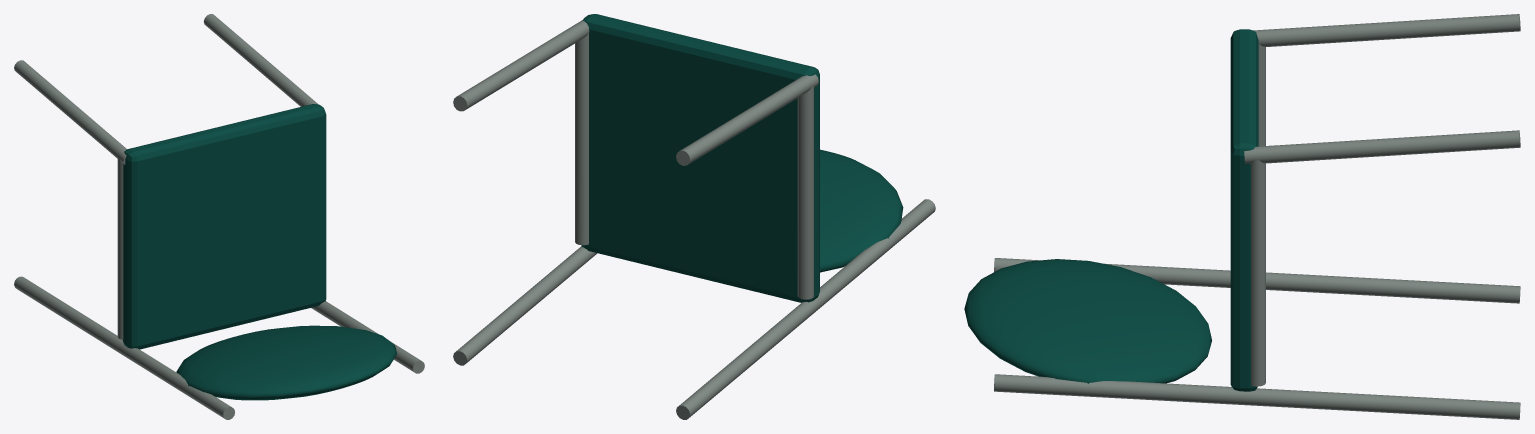
The model's file is Chair_013.obj.
The picture shows the model from 3 angles, left to right: view 1: azimuth 30°, elevation 25°; view 2: azimuth 150°, elevation 25°; view 3: azimuth 270°, elevation 25°; orthographic projection. The views are drawn at different scales.
Parts seen in each view (by area): view 1: Chair_013_Encosto_Mesh, Chair_013_Lateral_Mesh.001; view 2: Chair_013_Encosto_Mesh, Chair_013_Lateral_Mesh.001; view 3: Chair_013_Encosto_Mesh, Chair_013_Lateral_Mesh.001.
Boxes of the visible parts, x1,y1,x2,y2 form: Chair_013_Encosto_Mesh: (122,104,397,400); Chair_013_Lateral_Mesh.001: (14,14,424,419); Chair_013_Encosto_Mesh: (581,14,903,302); Chair_013_Lateral_Mesh.001: (453,20,935,419); Chair_013_Encosto_Mesh: (964,29,1258,391); Chair_013_Lateral_Mesh.001: (994,14,1520,419).
Size of the model in its own units: 0.468 by 0.5079 by 0.889.
